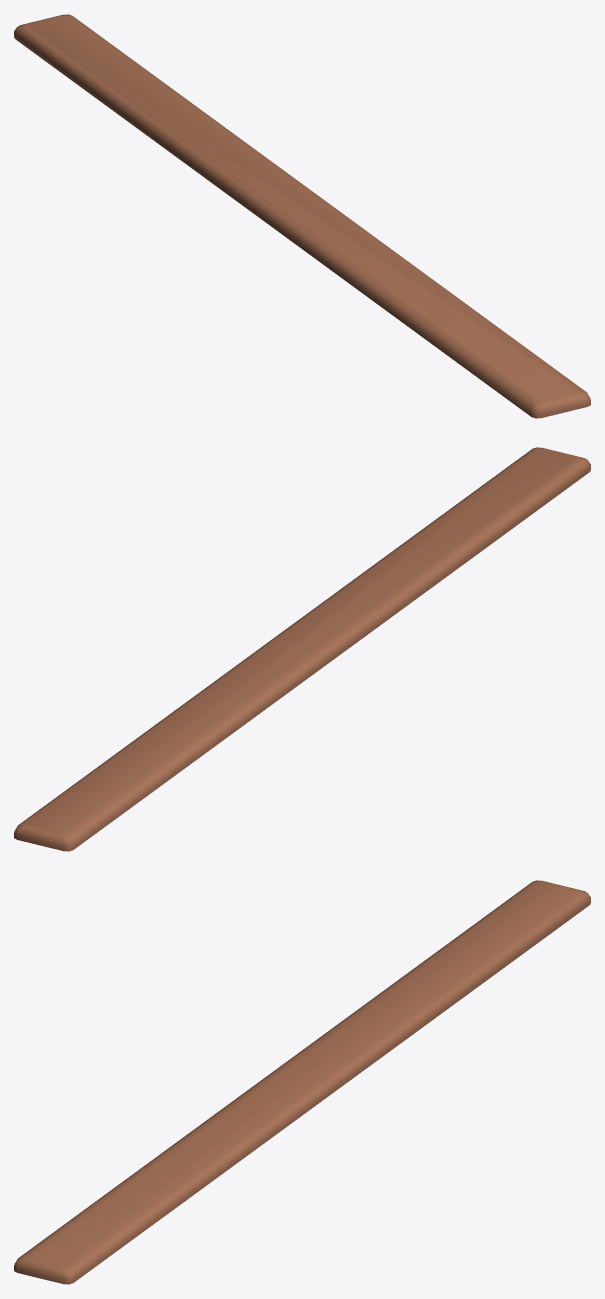
The model's file is Floor (path).fbx.
The picture shows the model from 3 angles, top to bottom: view 1: azimuth 30°, elevation 25°; view 2: azimuth 150°, elevation 25°; view 3: azimuth 330°, elevation 25°; orthographic projection.
Parts seen in each view (by area): view 1: Floor (path); view 2: Floor (path); view 3: Floor (path).
Boxes of the visible parts, box(x1,y1,x2,y2) form: Floor (path): box(14, 14, 590, 418); Floor (path): box(14, 447, 590, 851); Floor (path): box(14, 880, 590, 1284).
Bounding box in the file's own units: 2165 × 427 × 33484.
